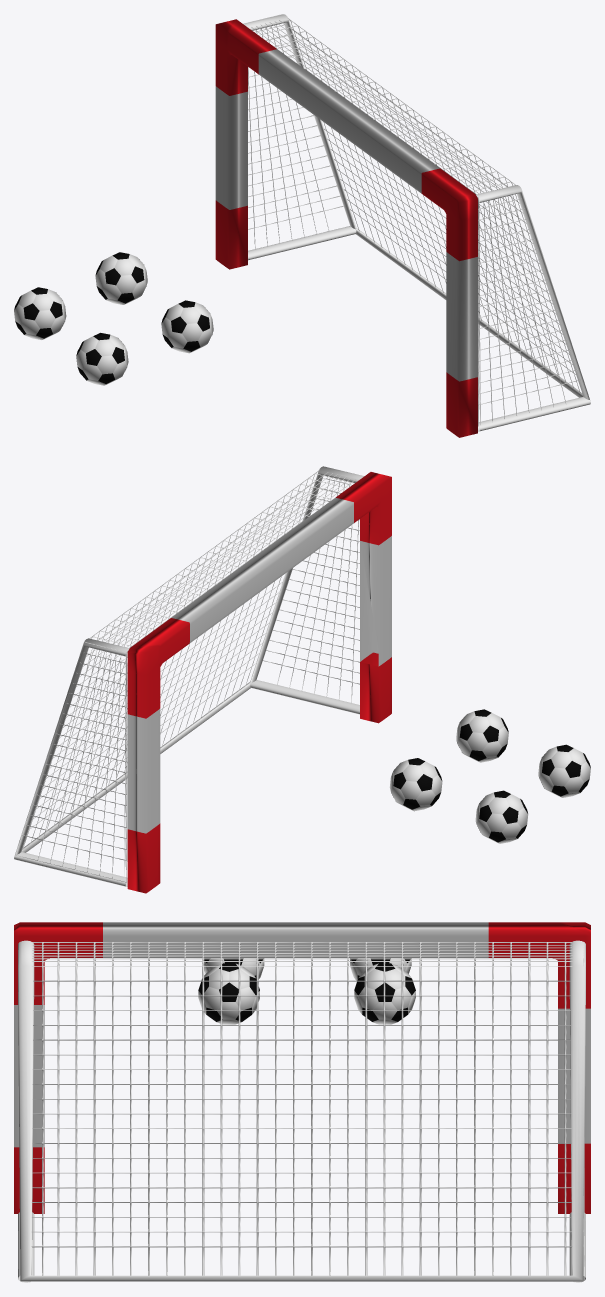
Rendered from penalty_old.fbx.
3 renders of one model, top to bottom at view 1: azimuth 30°, elevation 25°; view 2: azimuth 150°, elevation 25°; view 3: azimuth 270°, elevation 25°, orthographic. The views are drawn at different scales.
Parts seen in each view (by area): view 1: GoalPost, GoalNet, GoalSupportBars, LeftMiss, LeftGoal, RightGoal, RightMiss; view 2: GoalPost, GoalNet, GoalSupportBars, RightMiss, RightGoal, LeftGoal, LeftMiss; view 3: GoalNet, GoalPost, GoalSupportBars, LeftMiss, RightMiss, LeftGoal, RightGoal.
Part boxes in pixels (<box>): GoalPost: <box>215,19,477,437</box>; GoalNet: <box>244,14,580,426</box>; GoalSupportBars: <box>243,14,590,431</box>; LeftMiss: <box>95,252,147,304</box>; LeftGoal: <box>14,287,66,339</box>; RightGoal: <box>76,332,128,385</box>; RightMiss: <box>161,300,213,353</box>; GoalPost: <box>127,472,391,893</box>; GoalNet: <box>15,470,359,882</box>; GoalSupportBars: <box>14,466,364,886</box>; RightMiss: <box>456,709,508,762</box>; RightGoal: <box>538,744,590,797</box>; LeftGoal: <box>475,790,528,843</box>; LeftMiss: <box>389,758,442,811</box>; GoalNet: <box>31,942,584,1276</box>; GoalPost: <box>14,922,590,1213</box>; GoalSupportBars: <box>18,940,585,1282</box>; LeftMiss: <box>354,963,415,1024</box>; RightMiss: <box>198,963,259,1024</box>; LeftGoal: <box>350,958,411,980</box>; RightGoal: <box>204,958,264,979</box>.
Size of what is drawn, in the model's own units: 327 by 178 by 328.
